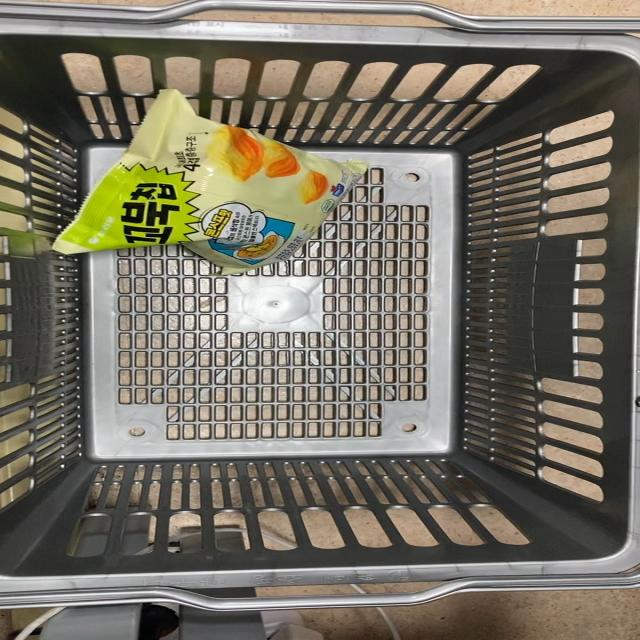ggobukchip: (37, 87, 355, 270)
